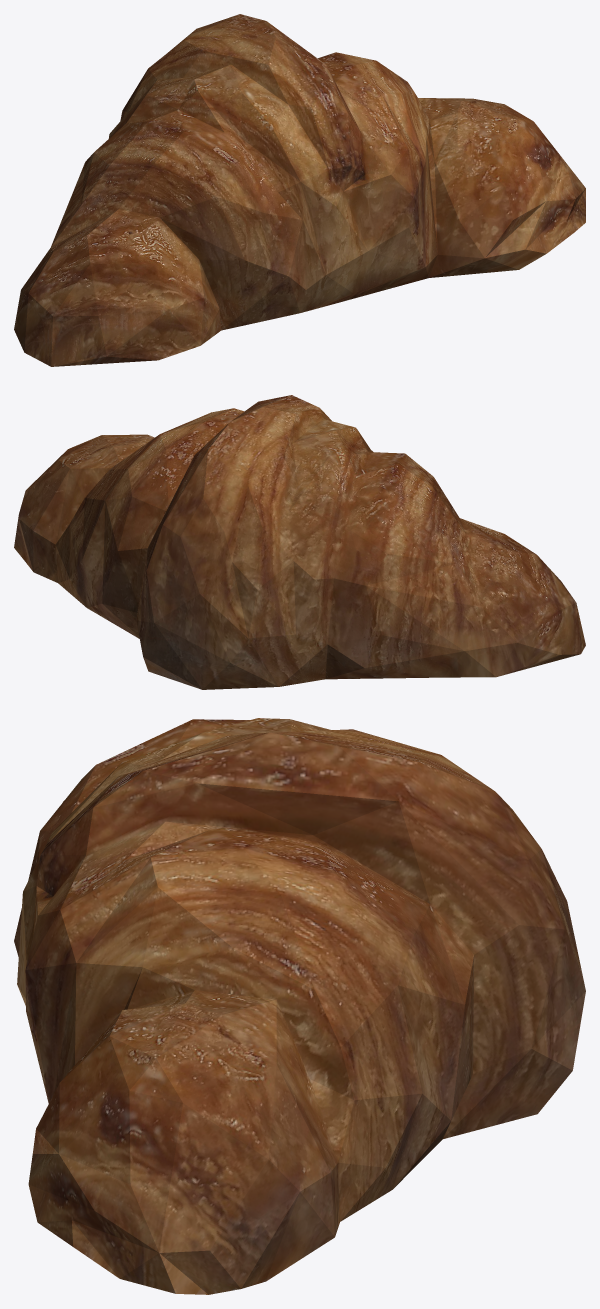
File: CROISSANT.obj
3 views of the same model, one above another, from view 1: azimuth 30°, elevation 25°; view 2: azimuth 150°, elevation 25°; view 3: azimuth 270°, elevation 25° (orthographic). The views are drawn at different scales.
Visible parts, largest first — view 1: Object_TexMap_0; view 2: Object_TexMap_0; view 3: Object_TexMap_0.
Part boxes in pixels (<box>): Object_TexMap_0: <box>14,14,585,366</box>; Object_TexMap_0: <box>14,395,585,689</box>; Object_TexMap_0: <box>14,718,585,1294</box>.
Size of the model in its own units: 2.5 by 0.9423 by 1.37.
Materials: 1 (1 with a texture image).
